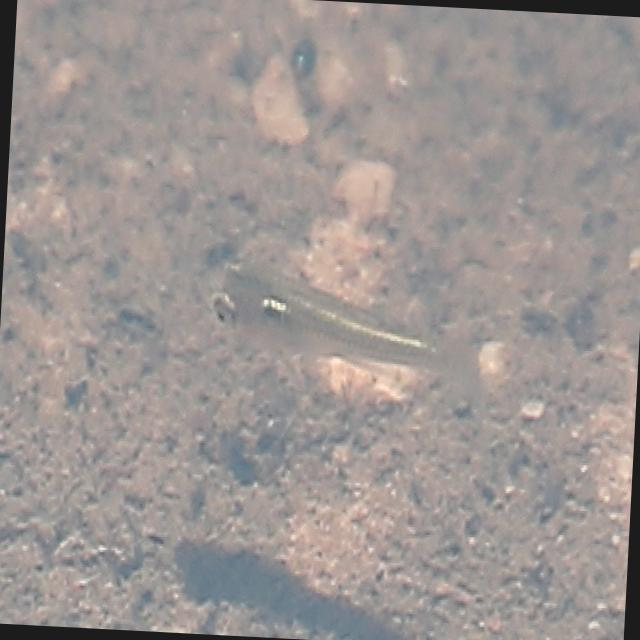Sivrisinek Baligi: (203, 232, 514, 418)
